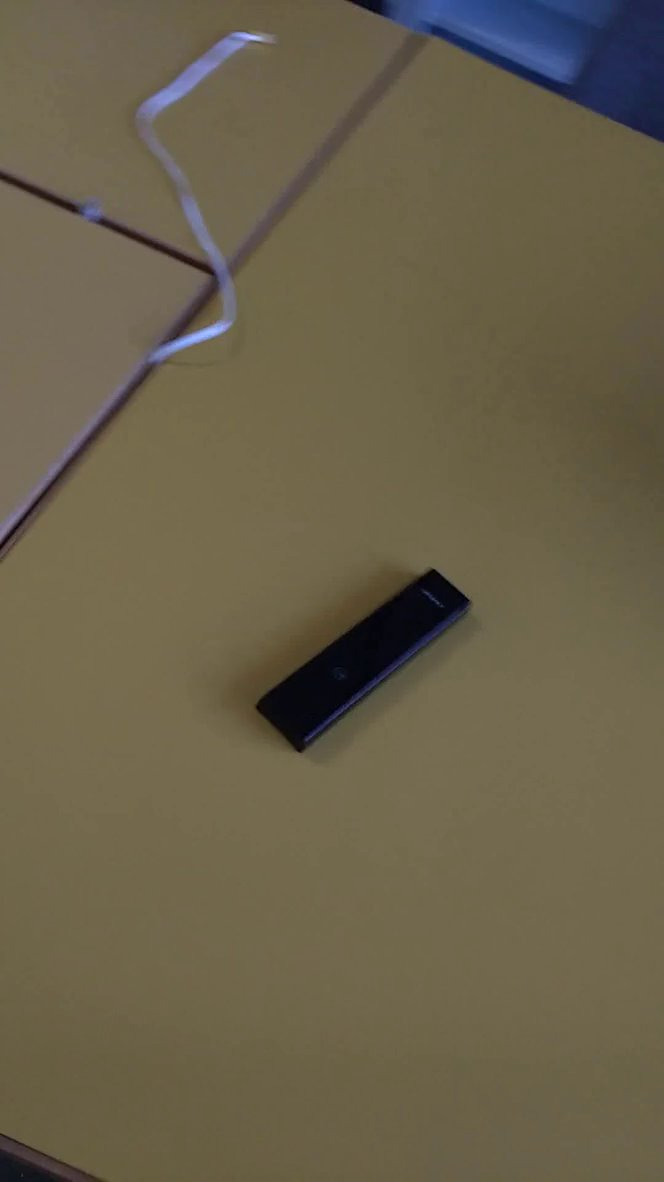remote: (242, 556, 484, 767)
